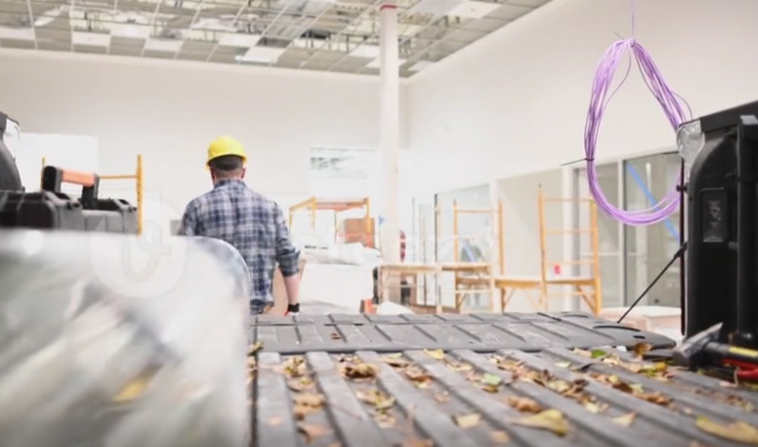safety_helmet: (205, 135, 246, 166)
